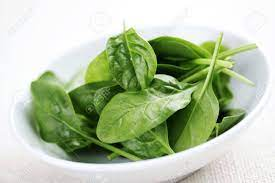spinach: (74, 56, 203, 130)
